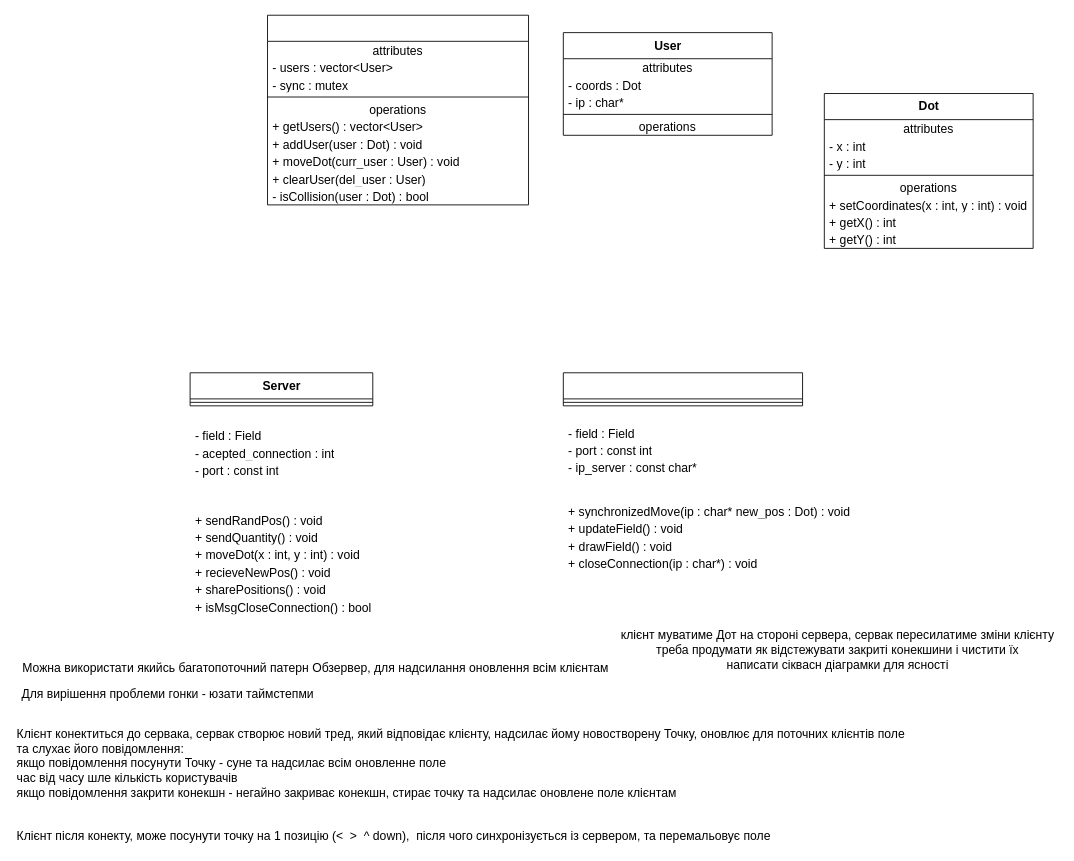
Image size: 1074x861. Some labels were removed from this diagram. The box of each missing label's shape, as (x1, y1, x2, y2) in pixels:
Client: (562, 372, 803, 406)
Field: (267, 14, 529, 205)
